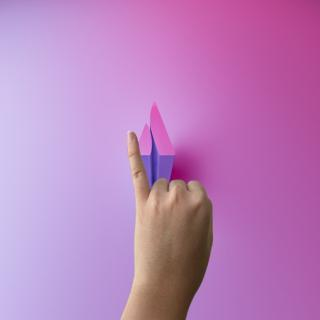Fine: (122, 125, 224, 314)
